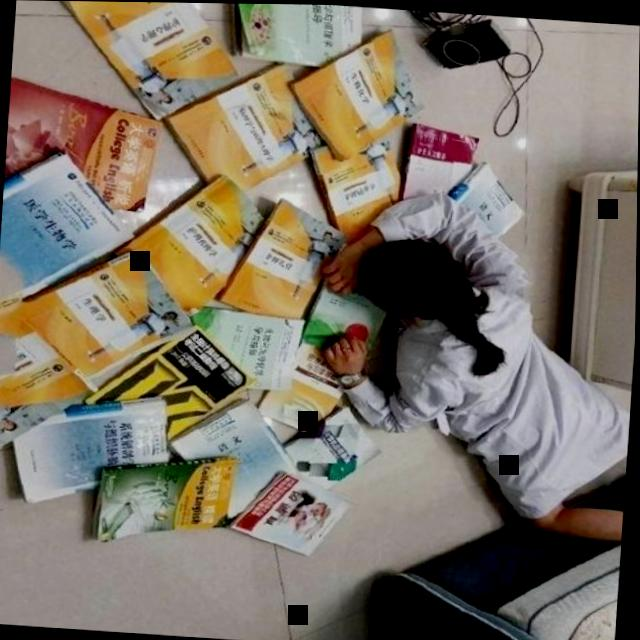Fall-Detected: (290, 174, 638, 572)
